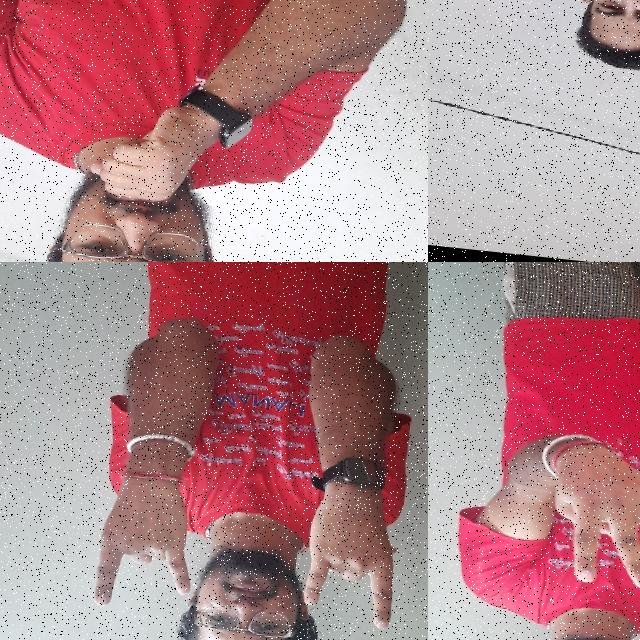Corna: (80, 446, 212, 632), (290, 466, 411, 634)
Fist Mouth: (31, 97, 232, 262)
Reversed Victory: (532, 427, 640, 599)
